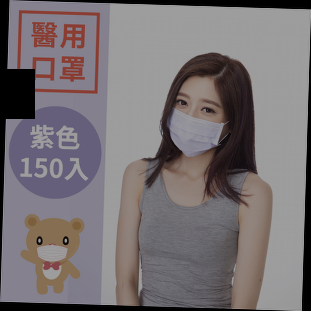with_mask: (167, 90, 231, 157)
